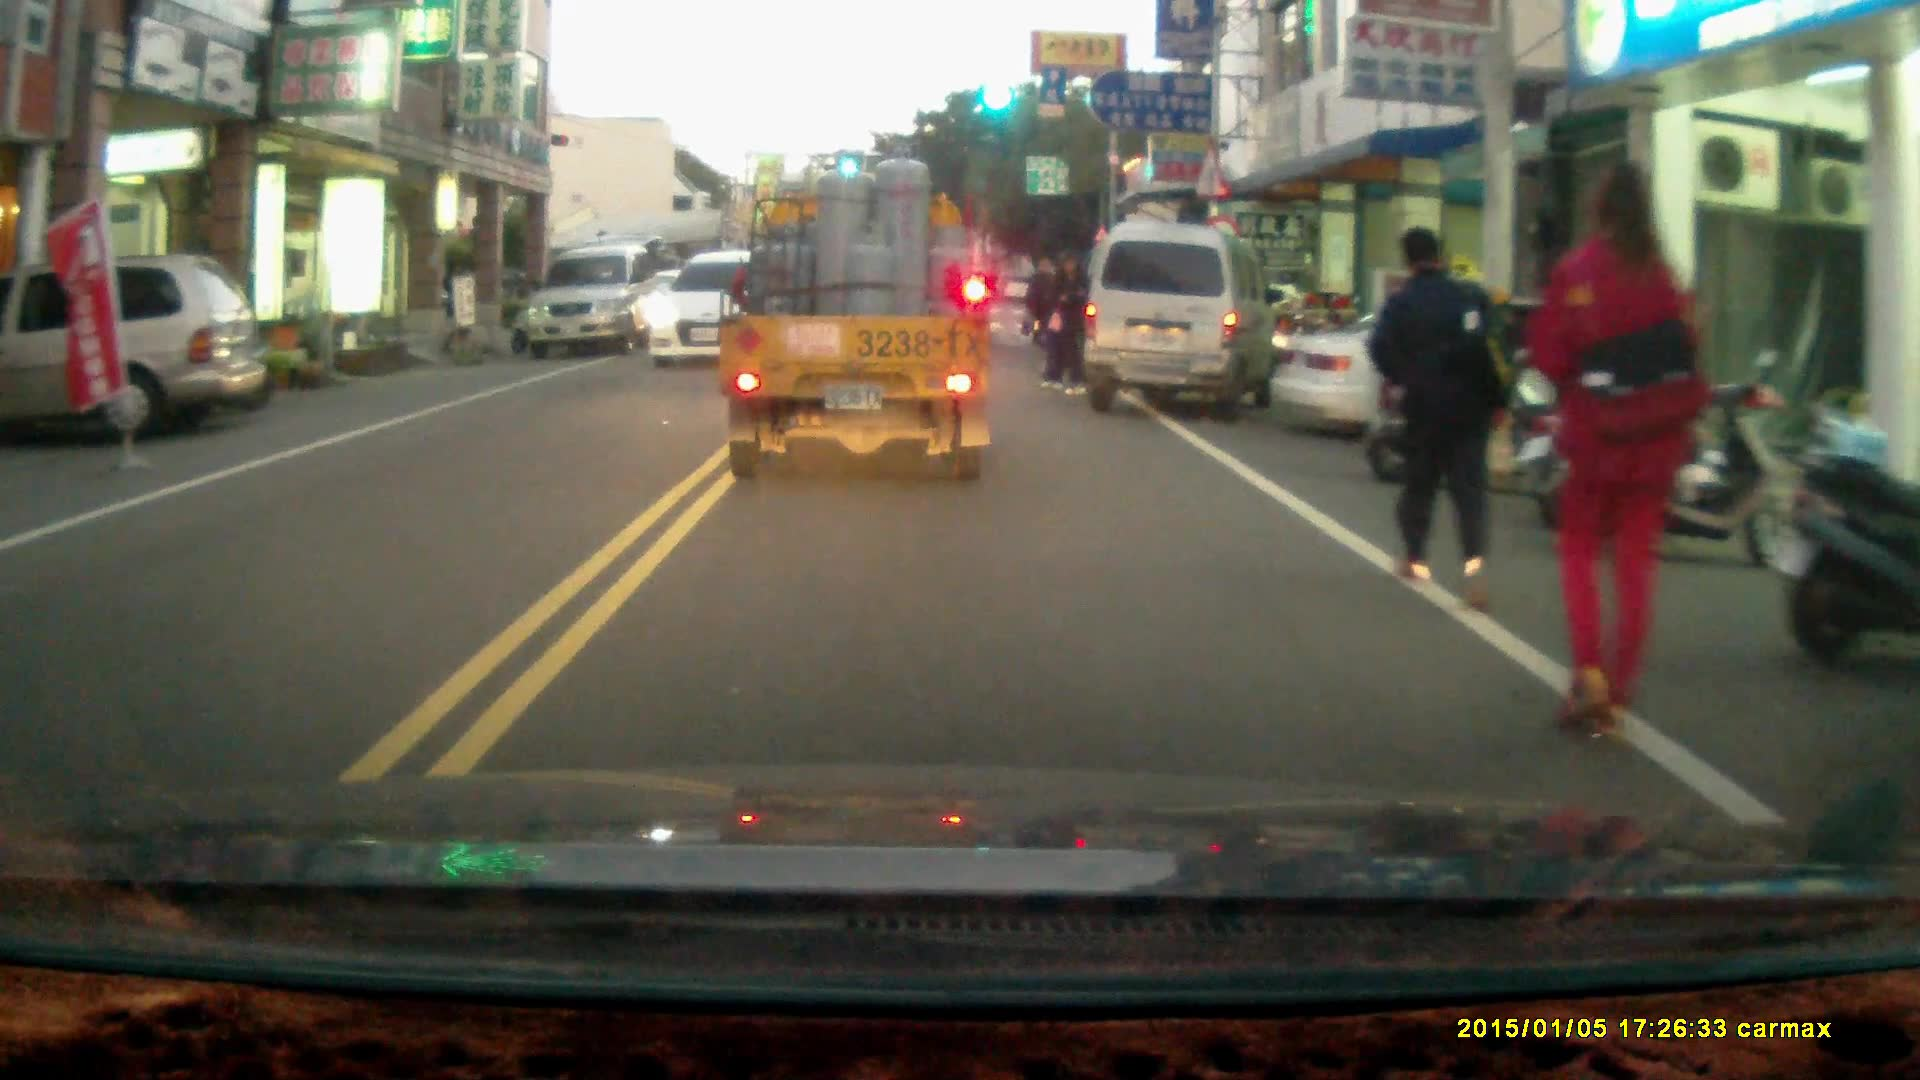pedestrian: (1524, 154, 1708, 751), (1362, 222, 1504, 608), (1045, 252, 1085, 397)
vehicle: (720, 178, 996, 496), (1276, 299, 1697, 462), (1, 251, 272, 439), (1084, 218, 1281, 417), (516, 243, 666, 356), (639, 246, 770, 367)
